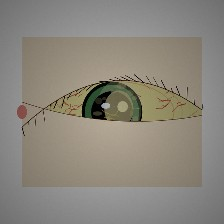corneal_ulcer: (89, 85, 149, 133)
